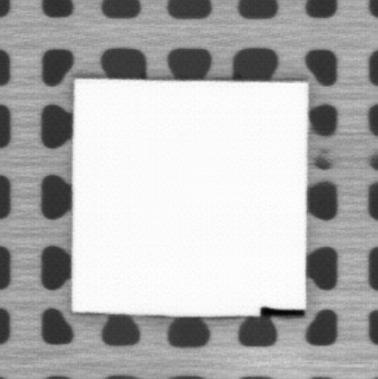DIE_BROKEN: (257, 305, 306, 319)
